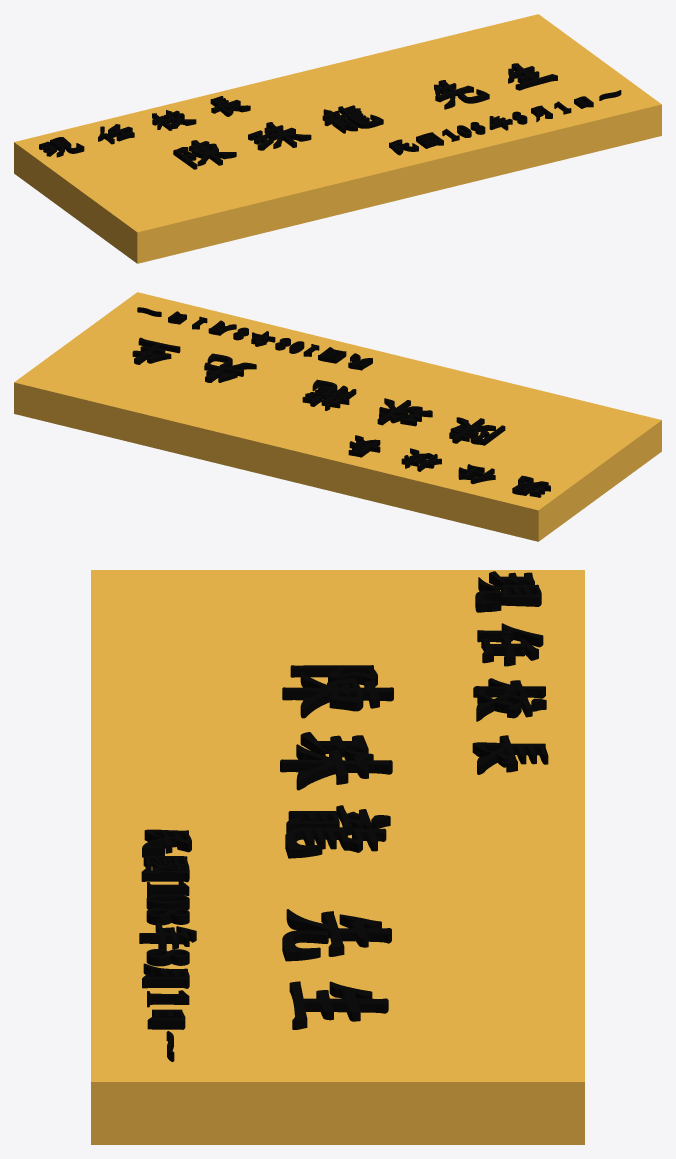
3 renders of one model, top to bottom at view 1: azimuth 30°, elevation 25°; view 2: azimuth 150°, elevation 25°; view 3: azimuth 270°, elevation 25°, orthographic. The views are drawn at different scales.
Visible parts, largest first — view 1: Box002, Text029, Text030, Text028; view 2: Box002, Text029, Text030, Text028; view 3: Box002, Text029, Text030, Text028.
Boxes of the visible parts, box(x1,y1,x2,y2) form: Box002: box(14, 14, 661, 263); Text029: box(173, 63, 557, 169); Text030: box(389, 90, 621, 155); Text028: box(39, 96, 250, 157); Box002: box(14, 292, 661, 541); Text029: box(132, 337, 505, 445); Text030: box(137, 307, 372, 370); Text028: box(348, 435, 550, 497); Box002: box(91, 570, 584, 1144); Text029: box(280, 665, 393, 1029); Text030: box(139, 829, 196, 1061); Text028: box(472, 571, 548, 774).
Size of the model in its own units: 469 by 30.65 by 191.
